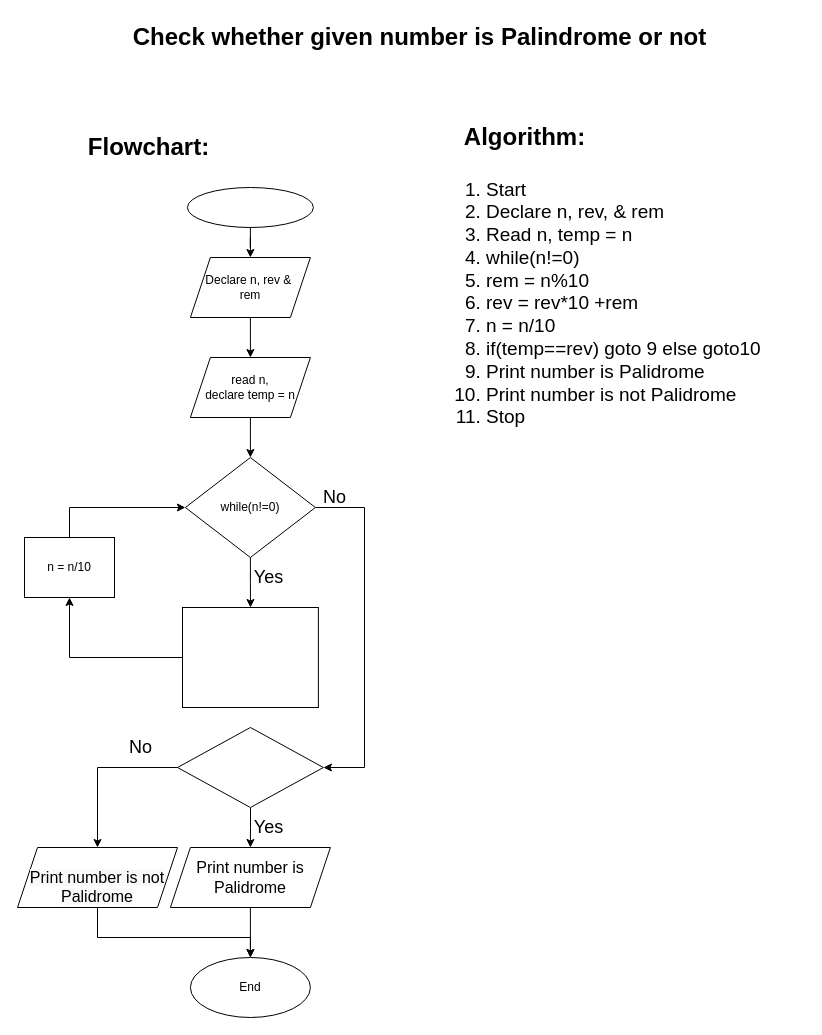
Some shapes in this 822 by 1035 pixel diagram are drawn without their labels. The box of each missing label's shape, as (x1, y1, x2, y2) in pixels:
if temp==rev: (176, 726, 323, 808)
rem=n%10; rev = rev*10 + rem: (182, 606, 318, 708)
Start: (186, 186, 313, 228)
